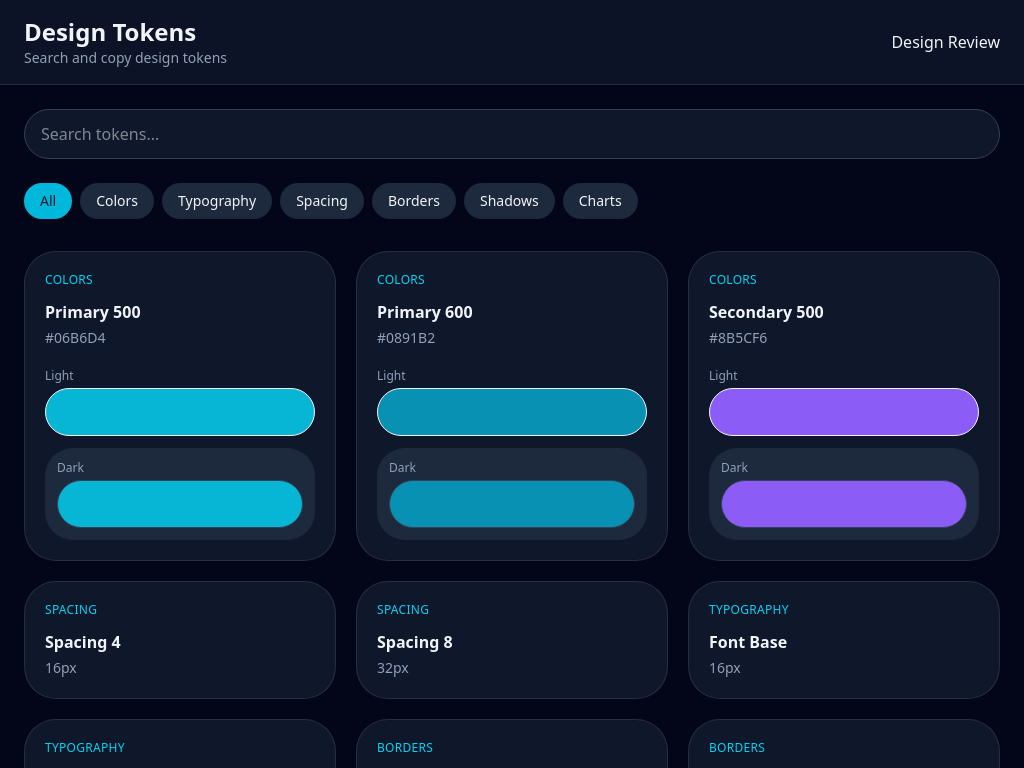
Test: DesignTokensPage › filters tokens by category
Click the button "Spacing".
click(322, 201)  # box x1=280 y1=183 x2=364 y2=219
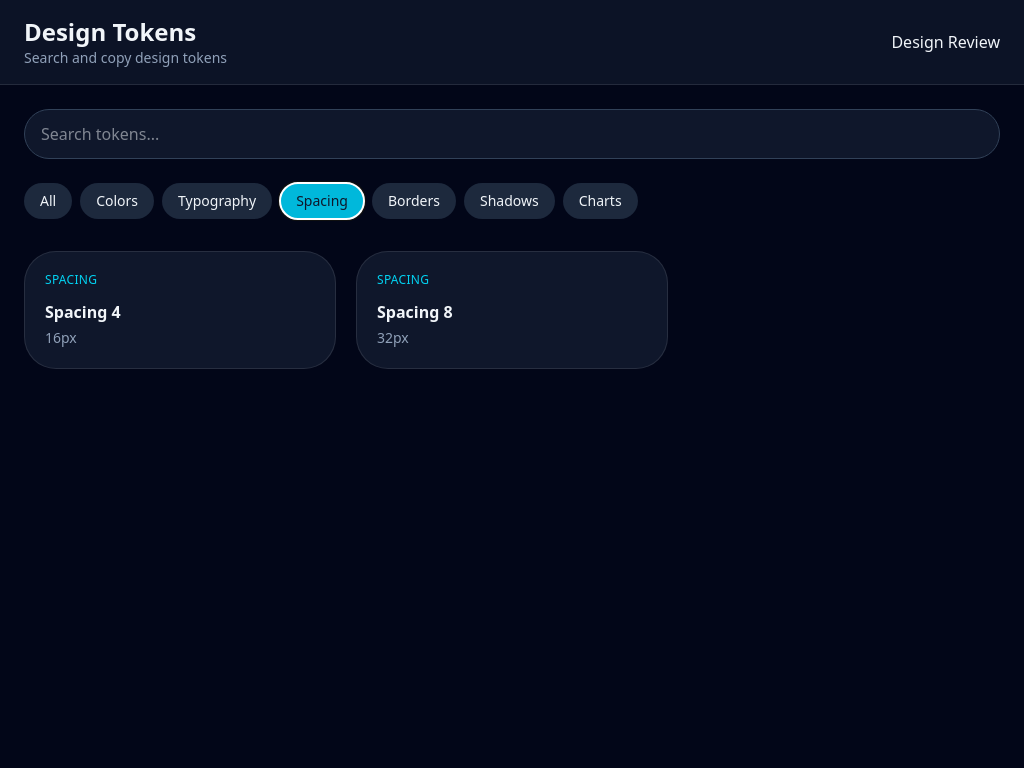
Check: the heading "Spacing 4" is shown, box x1=45 y1=301 x2=121 y2=323
Check: the heading "Primary 500" is gone
